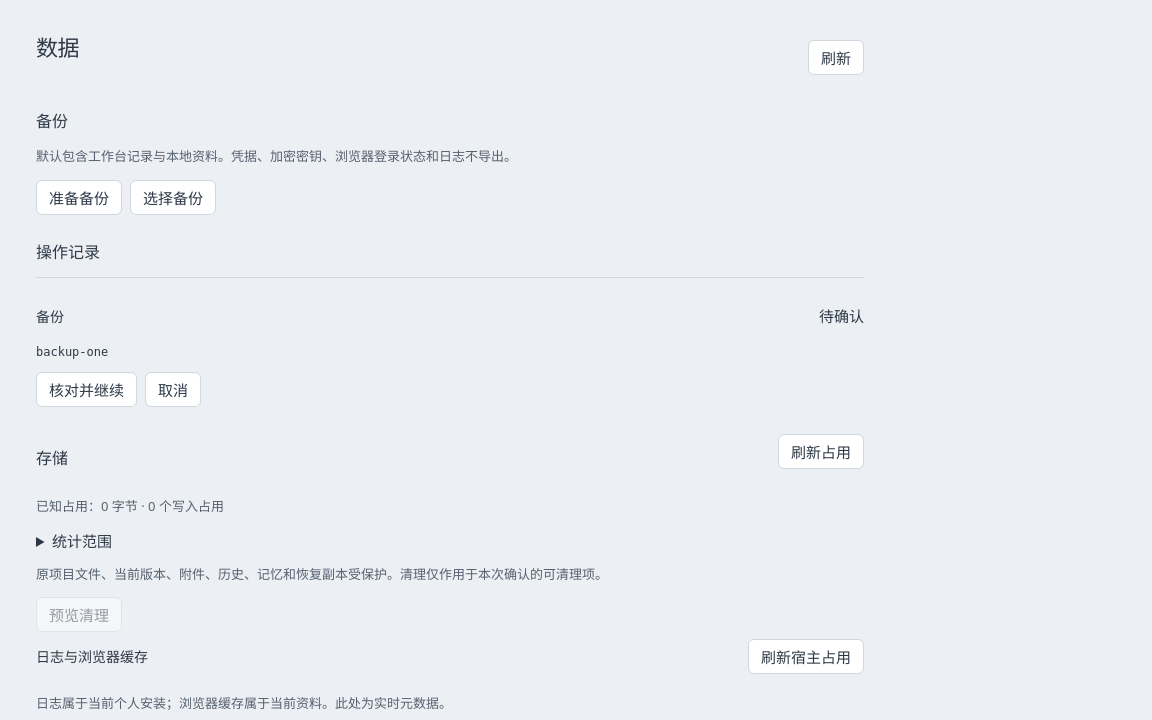
Test: 未知回执锁定新操作，只读刷新后核对已有记录
Click the button "核对并继续" at (86, 389), box left=36, top=372, right=137, bottom=407
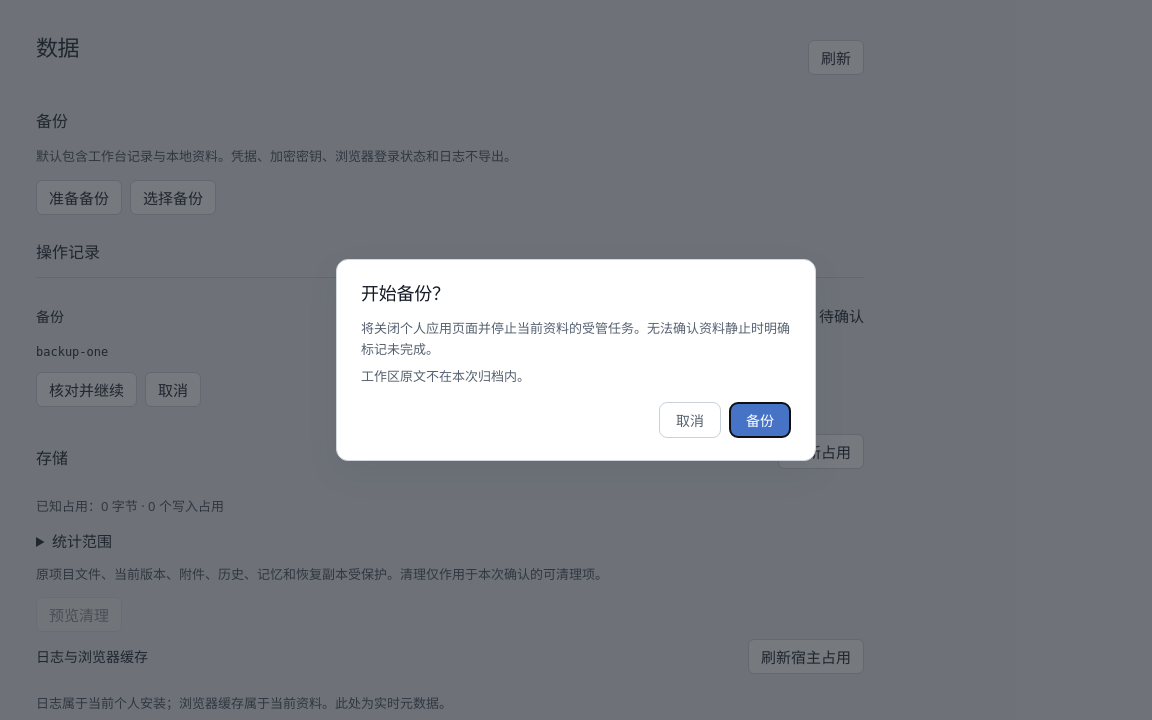
Click the button "备份" at (760, 420), box left=729, top=402, right=791, bottom=438
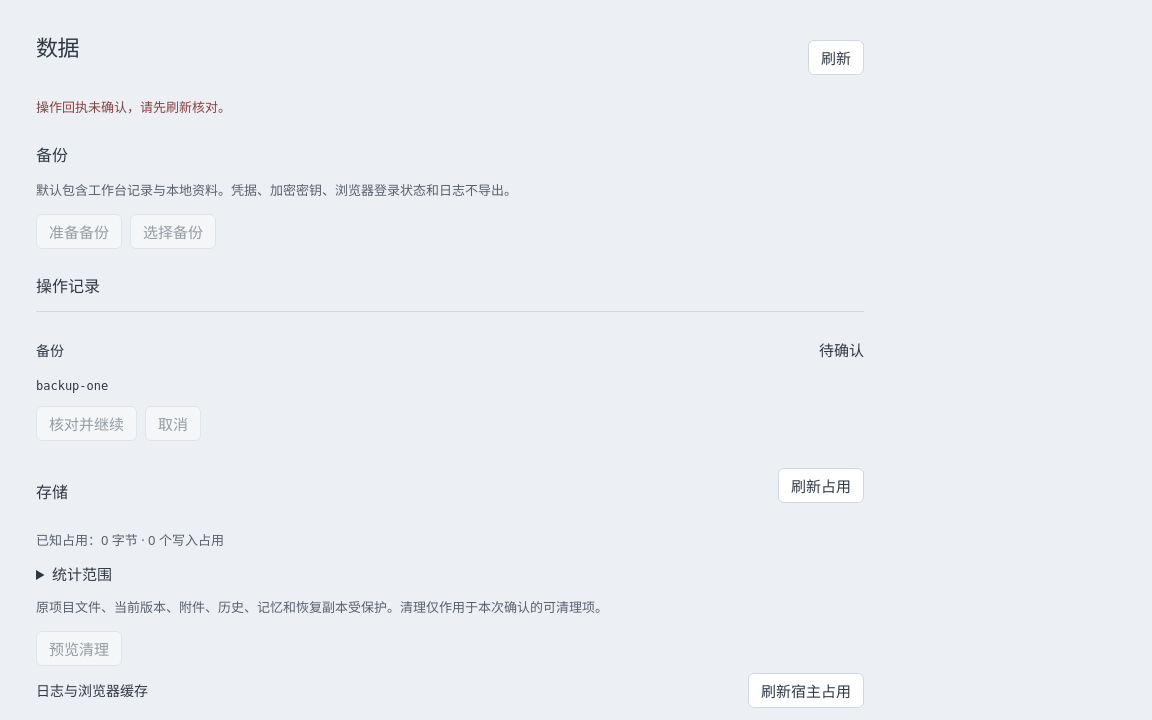
Now the message "操作回执未确认，请先刷新核对。" is shown, box left=36, top=98, right=231, bottom=116
Now the button "准备备份" is disabled, box left=36, top=214, right=122, bottom=249
Click the button "刷新" at (836, 57), box left=808, top=40, right=864, bottom=74
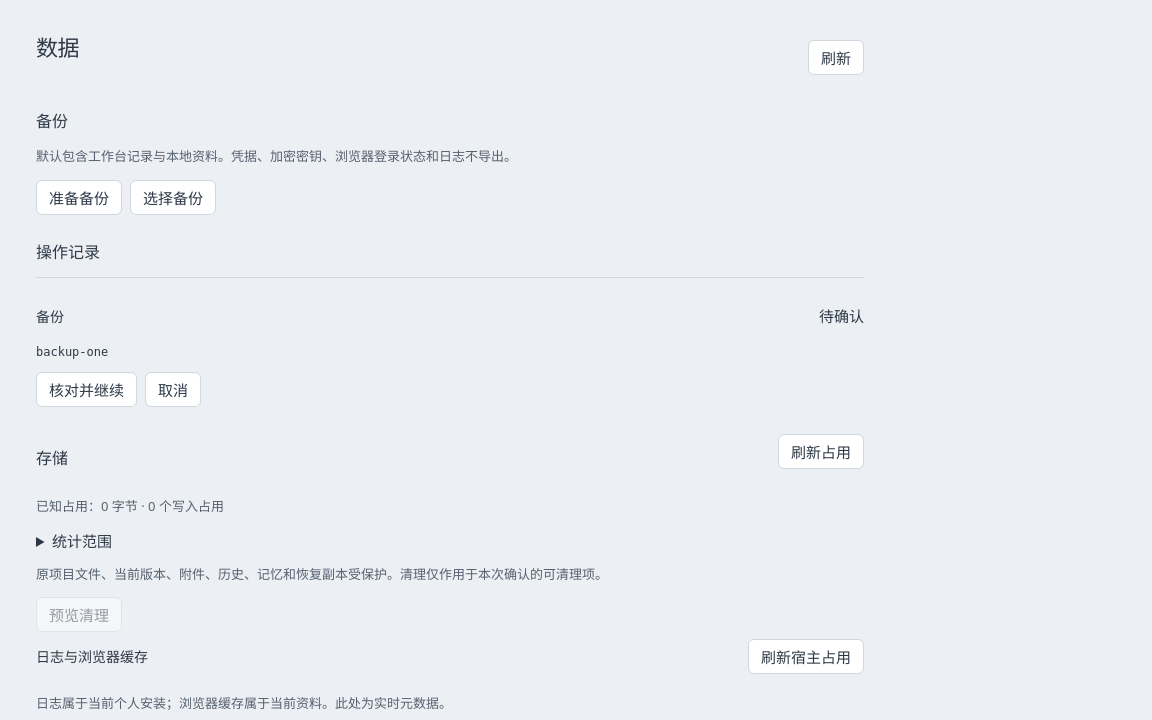
Now the button "准备备份" is enabled, box left=36, top=180, right=122, bottom=215
